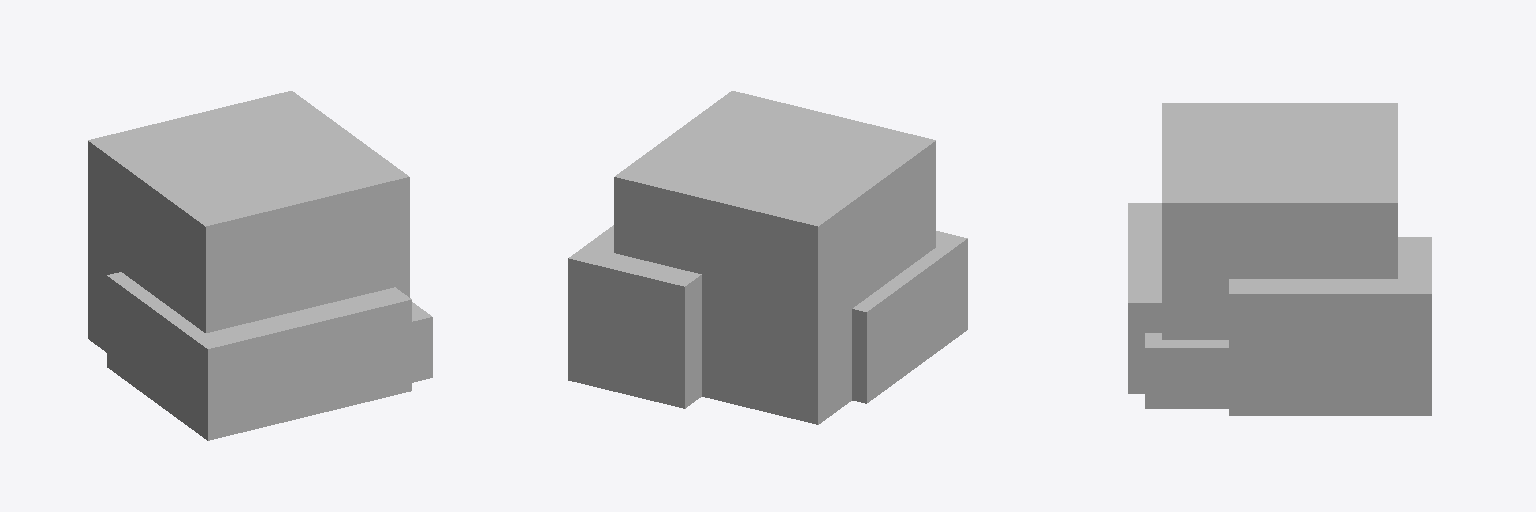
The model's file is mineral_ore.obj.
3 views of the same model, side by side, from view 1: azimuth 30°, elevation 25°; view 2: azimuth 150°, elevation 25°; view 3: azimuth 270°, elevation 25° (orthographic).
Visible parts, largest first — view 1: cube; view 2: cube; view 3: cube.
Part boxes in pixels (x1,y1,x2,y2): cube: (88,91,432,440); cube: (568,91,967,424); cube: (1128,103,1431,415).
Bounding box in the file's own units: 1.06 × 0.8125 × 1.12.